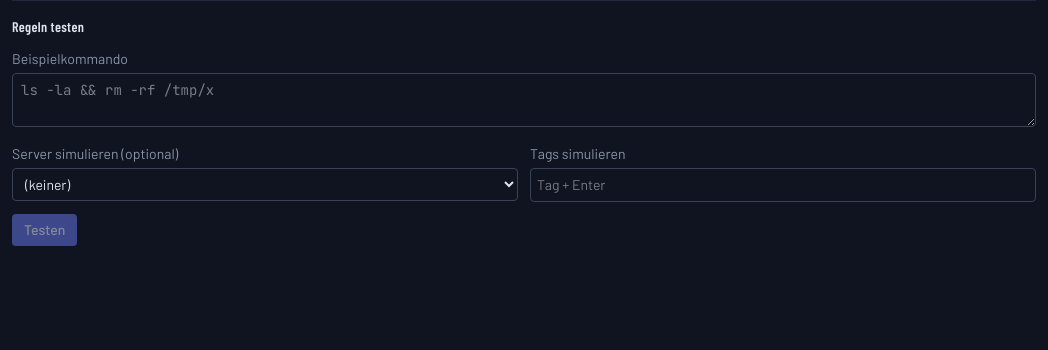
Test case: TestPanel server-tag derivation (Spec 0046, Fund 2) › shows AutoExec (not 'no rule matched') for a command a tag-scoped rule would allow
Select "prod-1" in the dropdown labelled "Server simulieren (optional)". click: [265, 184]
box: 12,168 -> 518,201
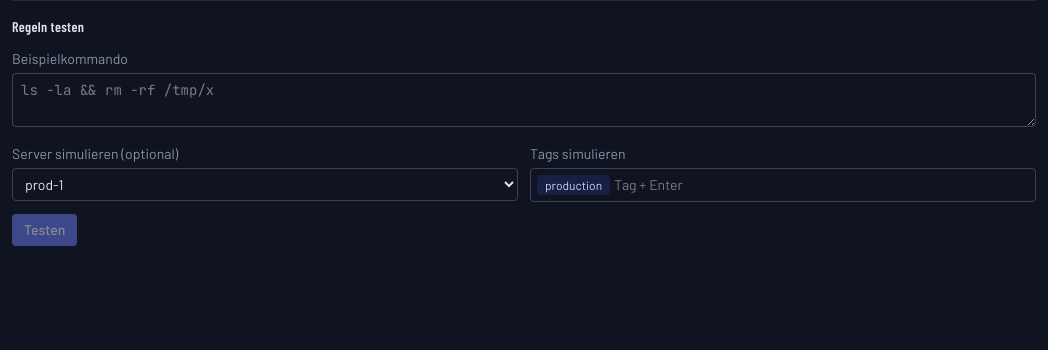
Type "systemctl restart nginx" into the text box with placeholder "ls -la && rm -rf /tmp/x". click: [524, 100]
box: 12,73 -> 1036,127
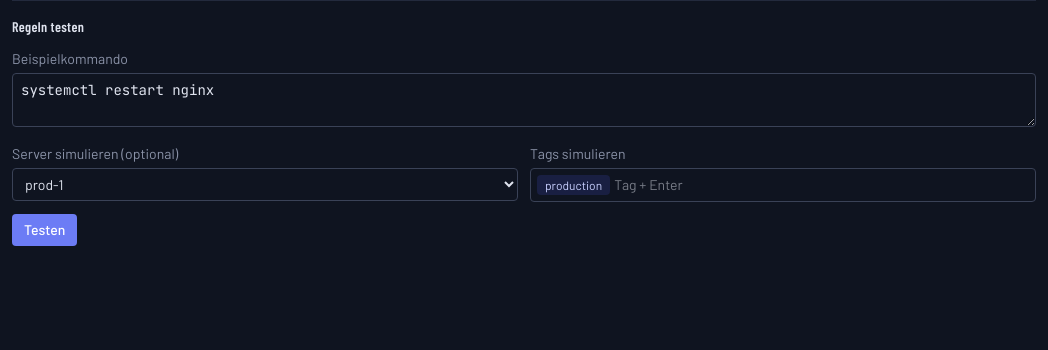
Click the button "Testen". click: [45, 230]
box: 12,214 -> 77,246
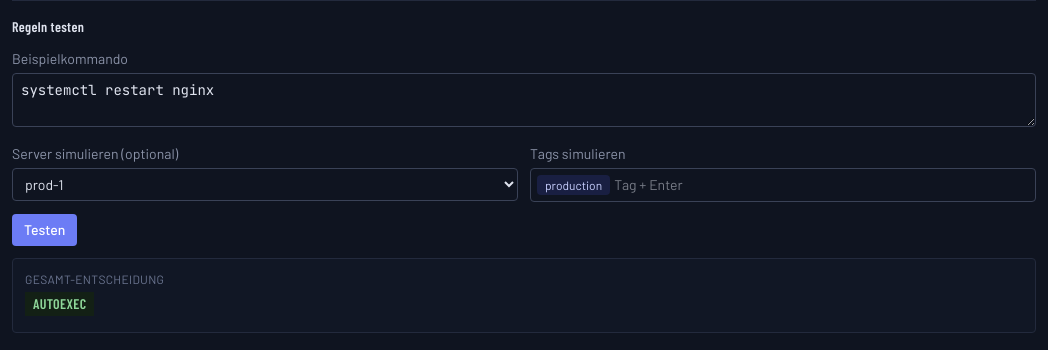
Check: the text "AutoExec" is shown, box 25,292 -> 94,316
